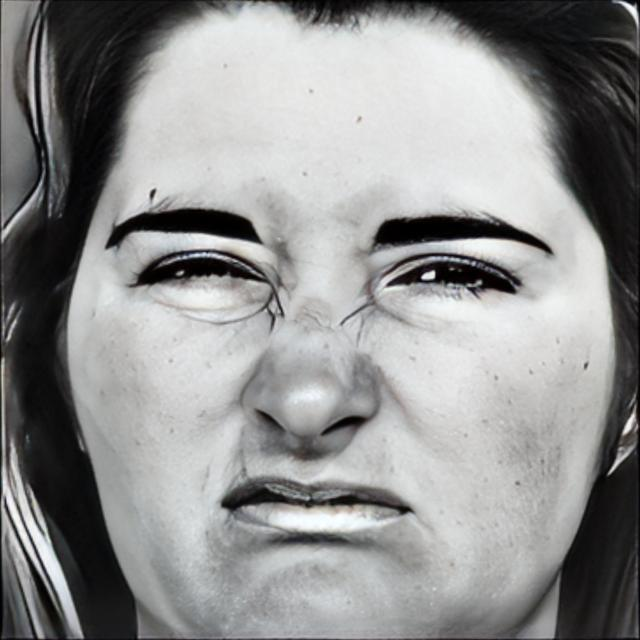disgust: (67, 0, 616, 638)
